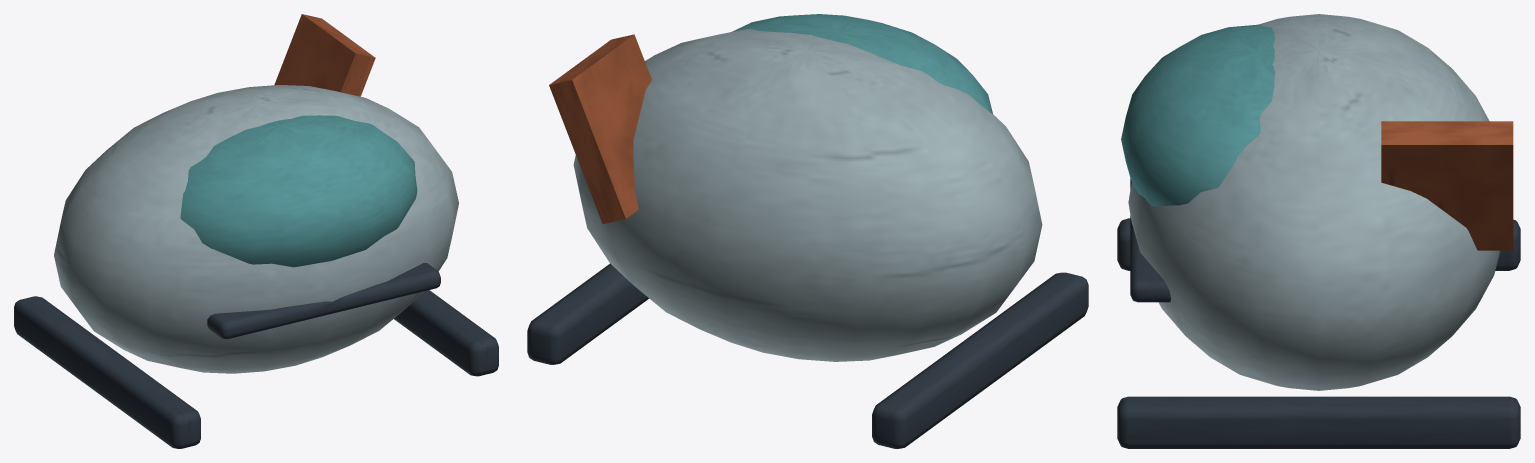
The model's file is CrashedPod.glb.
The picture shows the model from 3 angles, left to right: view 1: azimuth 30°, elevation 25°; view 2: azimuth 150°, elevation 25°; view 3: azimuth 270°, elevation 25°; orthographic projection. The views are drawn at different scales.
Visible parts, largest first — view 1: Capsule, Canopy, Side skid, Broken vane, Hatch sill, Side skid.001; view 2: Capsule, Side skid, Broken vane, Canopy, Side skid.001; view 3: Capsule, Side skid.001, Canopy, Broken vane, Hatch sill, Side skid.
Part boxes in pixels (x1=…): Capsule: x1=54, y1=85, x2=458, y2=373; Canopy: x1=180, y1=115, x2=417, y2=267; Side skid: x1=14, y1=296, x2=200, y2=448; Broken vane: x1=274, y1=14, x2=375, y2=96; Hatch sill: x1=207, y1=263, x2=440, y2=338; Side skid.001: x1=394, y1=290, x2=498, y2=376; Capsule: x1=573, y1=29, x2=1042, y2=361; Side skid: x1=872, y1=272, x2=1088, y2=448; Broken vane: x1=549, y1=34, x2=651, y2=223; Canopy: x1=732, y1=14, x2=992, y2=113; Side skid.001: x1=527, y1=263, x2=648, y2=364; Capsule: x1=1128, y1=14, x2=1500, y2=390; Side skid.001: x1=1117, y1=396, x2=1520, y2=448; Canopy: x1=1121, y1=24, x2=1275, y2=206; Broken vane: x1=1381, y1=121, x2=1513, y2=250; Hatch sill: x1=1130, y1=178, x2=1170, y2=302; Side skid: x1=1117, y1=218, x2=1520, y2=270.
Size of the model in its own units: 2.9 by 1.86 by 2.2.
Materials: 4 (4 with a texture image).
